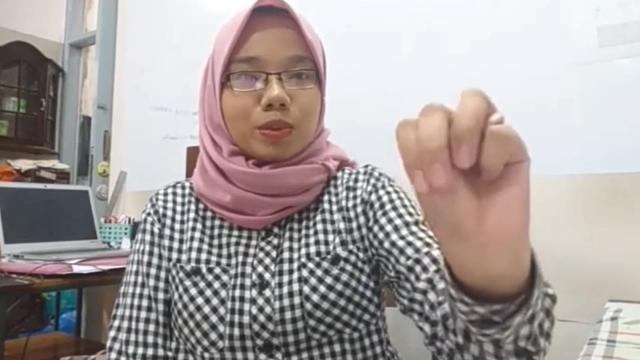M: (394, 86, 532, 234)
